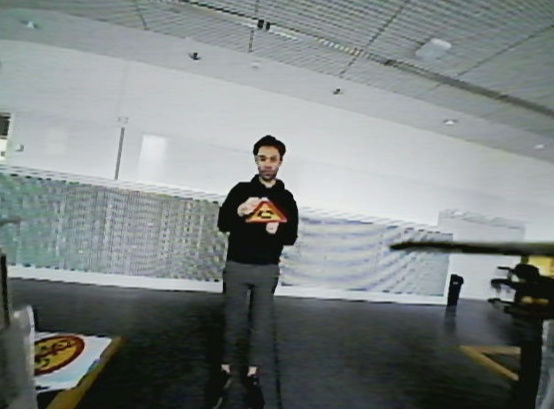roundabout_warning: (243, 197, 290, 224)
